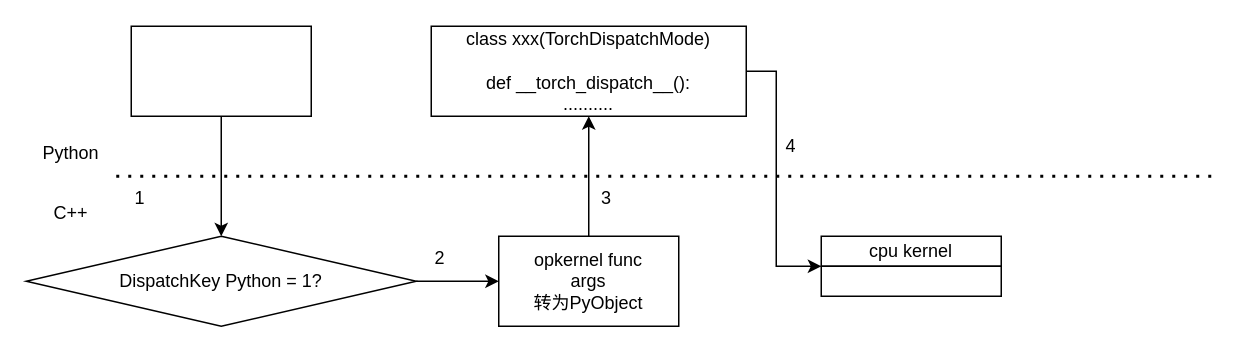
The diagram is 1241 pixels wide and 353 high, and some of its shapes have lost their labels. Here are the shapes that lost their labels. From the top down, the centre of each, then its label:
(220,70): torch.add(a, b)
(910,280): xpu kernel
